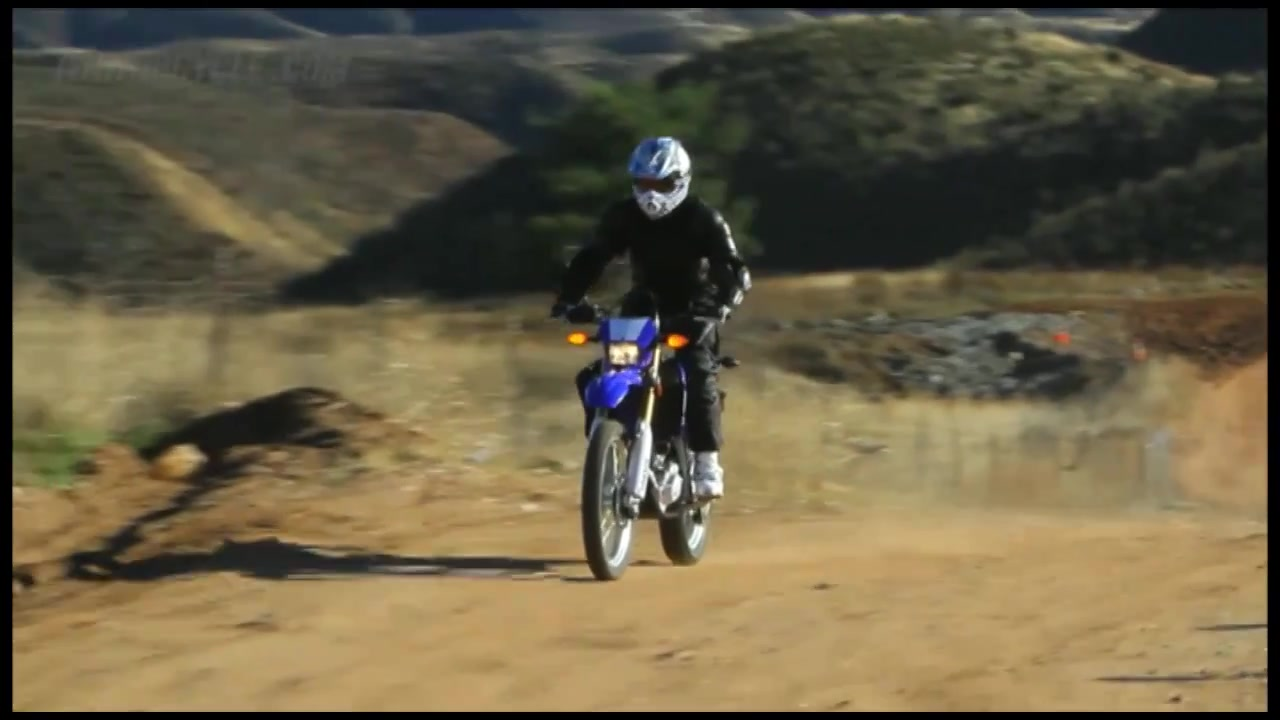motorbike: (555, 290, 720, 587)
